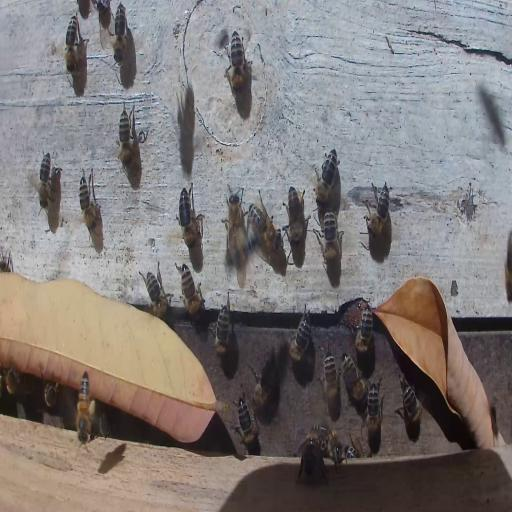bee: (176, 183, 204, 248), (248, 202, 282, 255), (221, 227, 260, 270), (141, 262, 172, 316), (310, 419, 342, 471), (366, 179, 392, 240), (177, 262, 204, 318), (313, 148, 338, 208), (284, 183, 306, 251), (76, 372, 96, 446), (288, 303, 312, 364), (77, 166, 98, 235), (397, 377, 423, 429), (236, 398, 260, 454), (354, 302, 375, 356), (224, 187, 245, 241), (117, 103, 133, 173), (250, 367, 274, 413), (228, 30, 245, 94), (341, 352, 363, 400), (323, 349, 340, 410), (300, 437, 323, 482), (213, 304, 232, 354), (112, 2, 126, 64), (65, 14, 79, 74), (368, 383, 382, 443), (38, 150, 52, 209), (4, 369, 24, 399), (44, 380, 60, 410), (352, 377, 368, 403), (97, 408, 110, 436), (344, 440, 362, 458)
